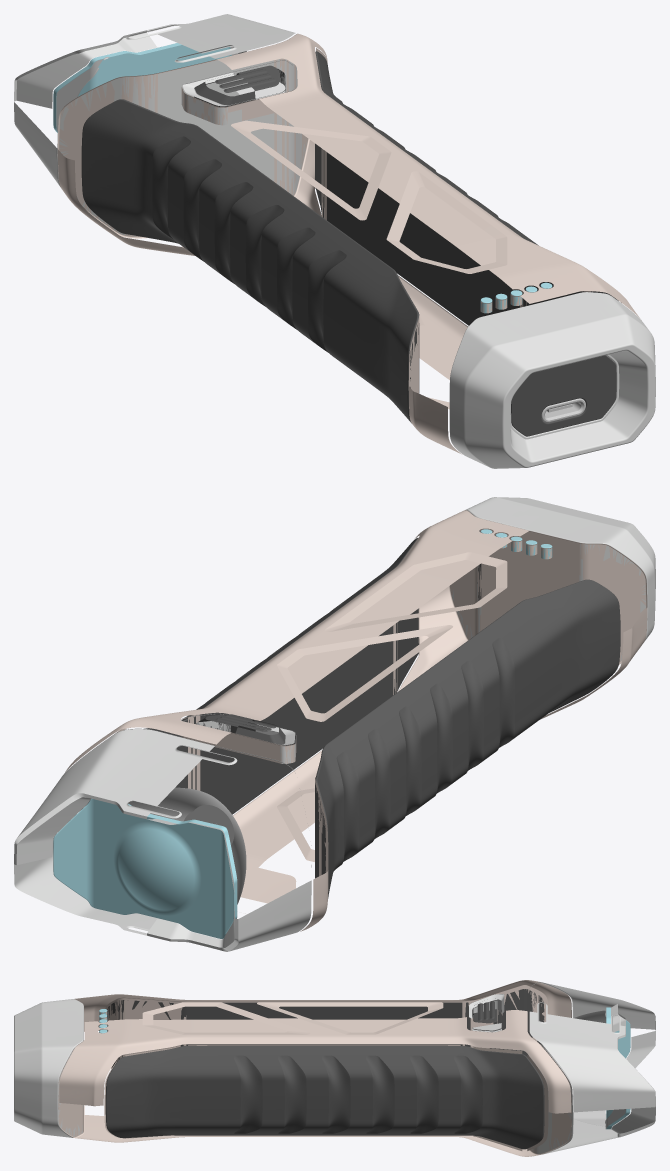
Rendered from exp.glb.
3 renders of one model, top to bottom at view 1: azimuth 30°, elevation 25°; view 2: azimuth 150°, elevation 25°; view 3: azimuth 270°, elevation 25°, orthographic. The views are drawn at different scales.
Parts seen in each view (by area): view 1: flashlight 2 (×11); view 2: flashlight 2 (×9); view 3: flashlight 2 (×9).
Boxes of the visible parts, x1,y1,x2,y2 form: flashlight 2 (×11): (14,14,655,468); flashlight 2 (×9): (14,497,655,951); flashlight 2 (×9): (14,980,655,1156).
Bounding box in the file's own units: 0.0436 × 0.0265 × 0.1312.
